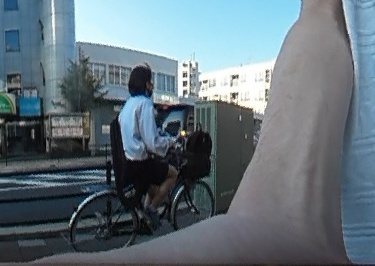person: (119, 59, 176, 215)
